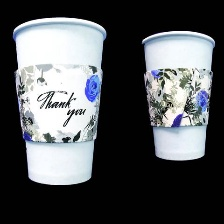paper_cup: (7, 11, 109, 189), (138, 25, 220, 163)
